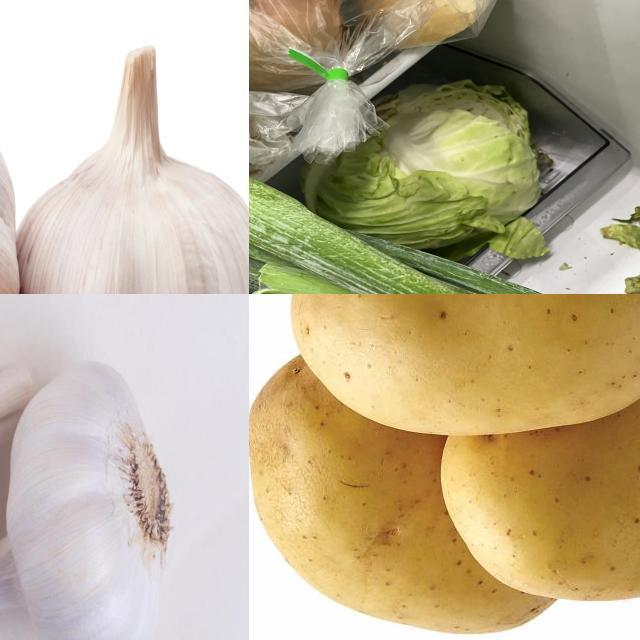cabbage: (300, 81, 548, 255)
garlic: (8, 49, 250, 295), (1, 356, 179, 640)
onion: (250, 171, 640, 295), (250, 1, 343, 94), (362, 1, 492, 48)
potato: (251, 357, 562, 633), (441, 342, 640, 603), (290, 295, 640, 438)
